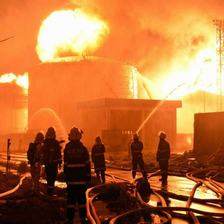fire: (29, 9, 137, 85), (145, 31, 219, 110)
